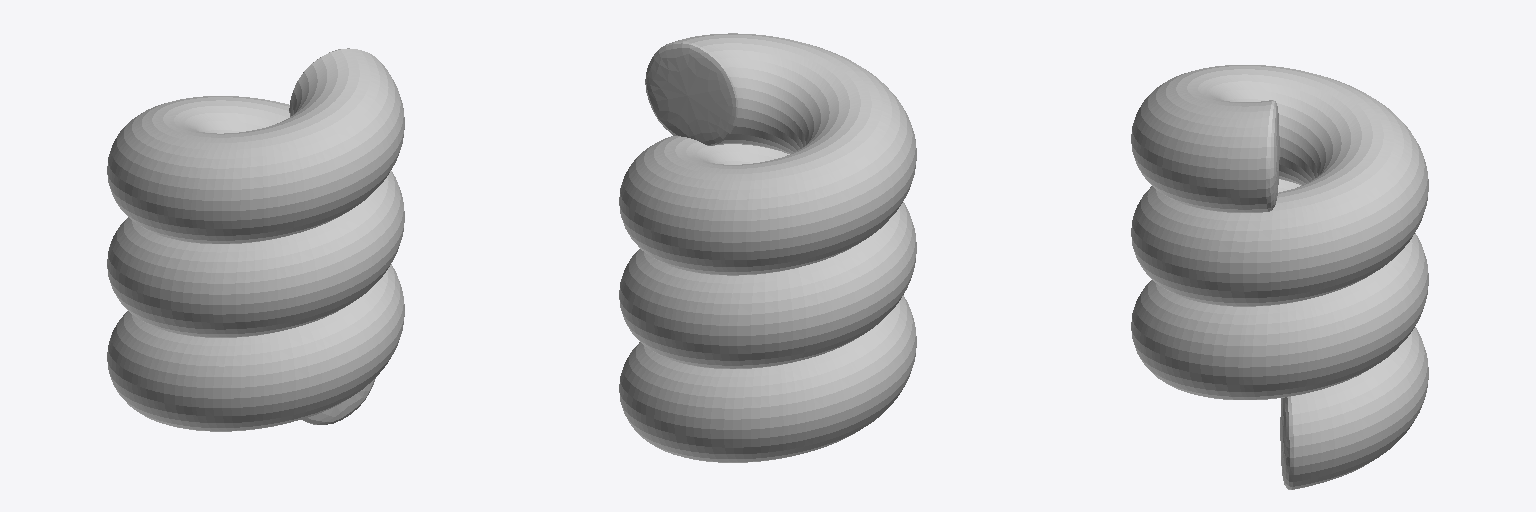
The model's file is helix_50.0.obj.
The picture shows the model from 3 angles: view 1: azimuth 30°, elevation 25°; view 2: azimuth 150°, elevation 25°; view 3: azimuth 270°, elevation 25°; orthographic projection.
Parts seen in each view (by area): view 1: helix:pHelix1; view 2: helix:pHelix1; view 3: helix:pHelix1.
Part boxes in pixels (x1,y1,x2,y2): helix:pHelix1: (107, 48, 404, 431); helix:pHelix1: (619, 33, 916, 462); helix:pHelix1: (1131, 65, 1428, 489).
Bounding box in the file's own units: 1.92 × 2.71 × 1.92.